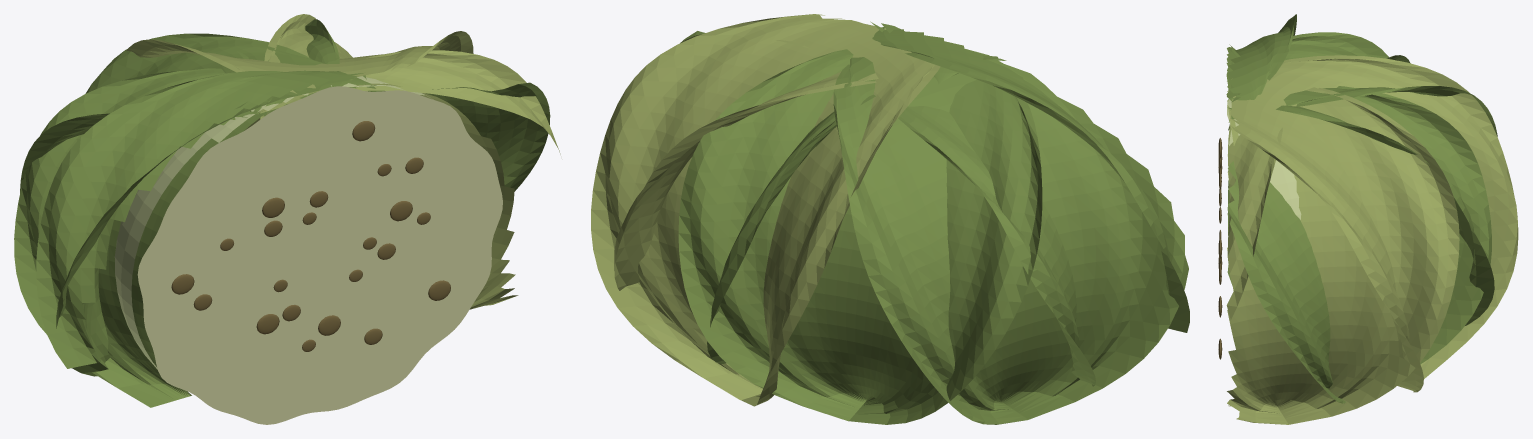
File: cabbage-wilt.glb
3 views of the same model, side by side, from view 1: azimuth 30°, elevation 25°; view 2: azimuth 150°, elevation 25°; view 3: azimuth 270°, elevation 25° (orthographic). The views are drawn at different scales.
Parts seen in each view (by area): view 1: cabbage-cut, leaf (×8), cabbage-core; view 2: leaf (×7); view 3: leaf (×7), cabbage-core.
Boxes of the visible parts, x1,y1,x2,y2 form: cabbage-cut: [137, 86, 502, 424]; leaf (×8): [14, 14, 560, 407]; cabbage-core: [114, 76, 433, 369]; leaf (×7): [591, 14, 1189, 424]; leaf (×7): [1226, 14, 1518, 424]; cabbage-core: [1227, 81, 1301, 406].
Size of the model in its own units: 1.83 by 1.12 by 0.9892.
